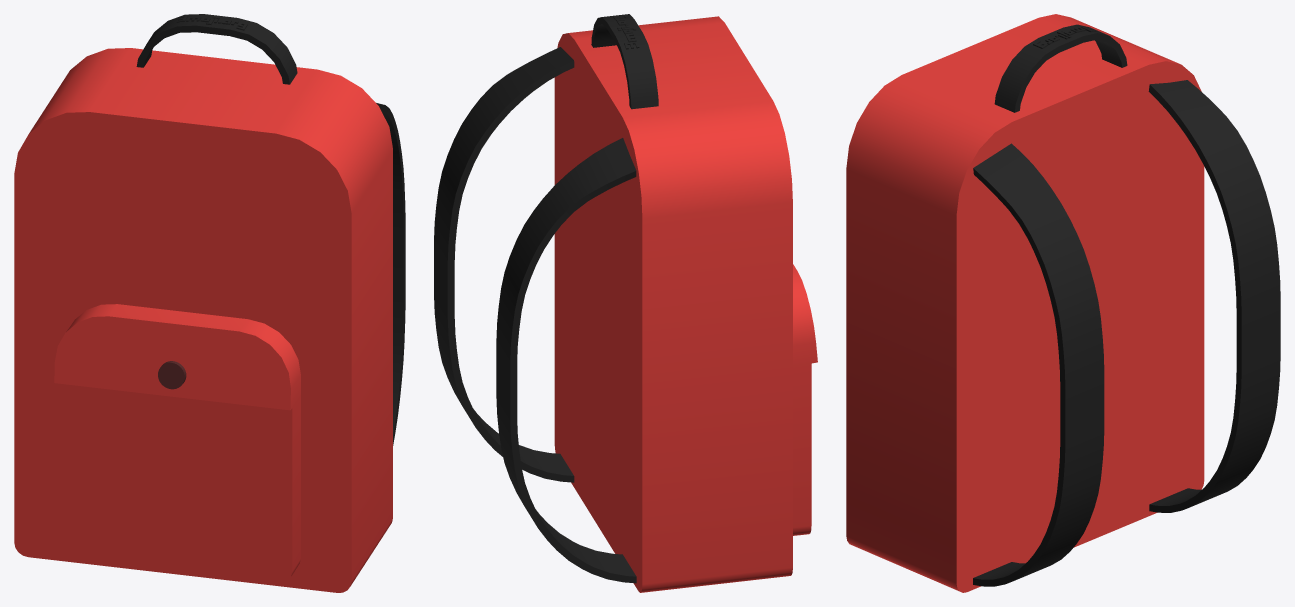
Rendered from backpack.glb.
3 renders of one model, left to right at view 1: azimuth 30°, elevation 25°; view 2: azimuth 150°, elevation 25°; view 3: azimuth 270°, elevation 25°, orthographic.
Parts seen in each view (by area): view 1: Cube.6113; view 2: Cube.6113; view 3: Cube.6113.
Part boxes in pixels (x1,y1,x2,y2): Cube.6113: [14, 14, 405, 592]; Cube.6113: [434, 14, 817, 592]; Cube.6113: [846, 14, 1280, 592].
Size of the model in its own units: 1.61 by 2.06 by 1.62.
Materials: 1 (1 with a texture image).
